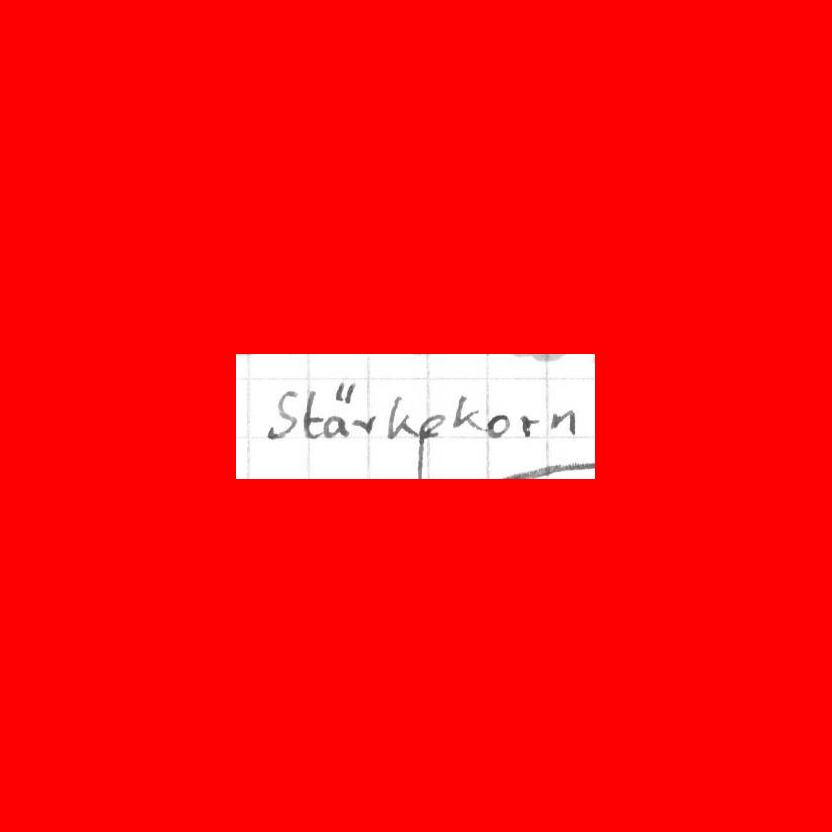Char: (321, 379, 354, 439), (266, 386, 299, 440), (386, 393, 415, 443), (451, 392, 480, 431), (302, 391, 321, 440), (416, 411, 444, 441), (549, 406, 576, 437), (485, 412, 511, 437), (351, 413, 377, 435), (518, 412, 539, 437)
